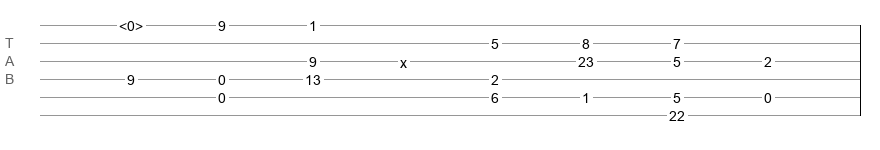0: (218, 90, 226, 100), (218, 72, 226, 82), (764, 90, 772, 100)
1: (309, 18, 317, 28), (582, 90, 590, 100)
13: (305, 72, 321, 82)
2: (491, 72, 499, 82), (764, 54, 772, 64)
22: (669, 108, 685, 118)
23: (578, 54, 594, 64)
5: (491, 36, 499, 46), (673, 54, 681, 64), (673, 90, 681, 100)
6: (491, 90, 499, 100)
7: (673, 36, 681, 46)
8: (582, 36, 590, 46)
9: (127, 72, 135, 82), (218, 18, 226, 28), (309, 54, 317, 64)
harmonic: (119, 18, 143, 28)
x: (400, 55, 407, 63)
